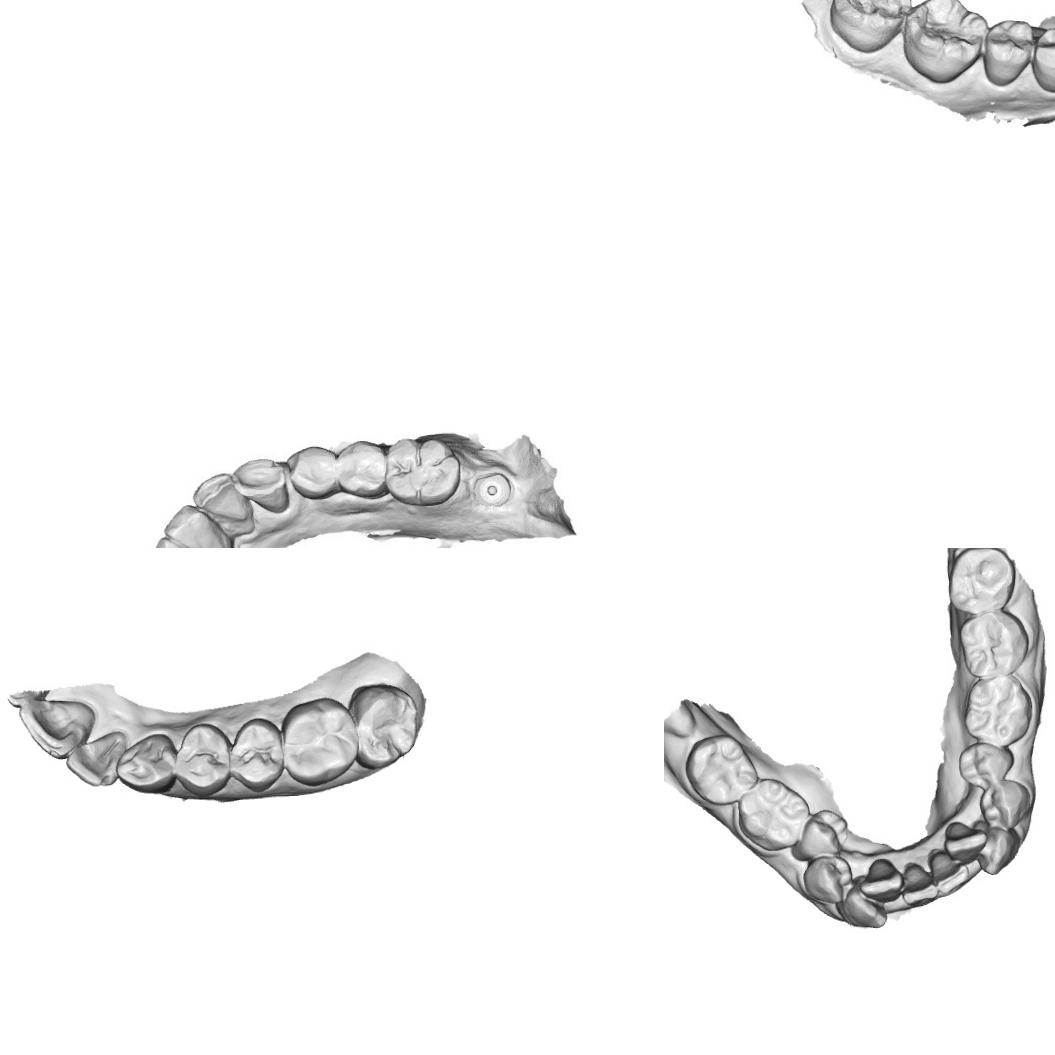canine: (230, 454, 294, 516), (116, 734, 176, 793), (970, 818, 1021, 878), (838, 881, 890, 929)
implant: (472, 464, 516, 509)
incisor: (17, 695, 97, 761), (193, 470, 252, 532), (64, 732, 120, 788), (162, 503, 220, 548), (943, 820, 990, 867), (926, 848, 972, 896), (858, 856, 902, 903), (901, 861, 938, 908)
inlay: (845, 0, 906, 26)
molar: (281, 695, 357, 788), (901, 0, 985, 71), (735, 776, 812, 852), (354, 682, 418, 770), (684, 732, 760, 806), (384, 435, 462, 506), (962, 672, 1036, 746), (957, 608, 1030, 677), (946, 548, 1017, 615)
premolar: (979, 14, 1037, 88), (230, 717, 286, 793), (176, 722, 232, 796), (287, 443, 342, 501), (336, 440, 390, 499), (976, 776, 1032, 832), (956, 742, 1017, 790), (796, 806, 850, 859), (800, 854, 855, 906), (1033, 25, 1055, 97)
